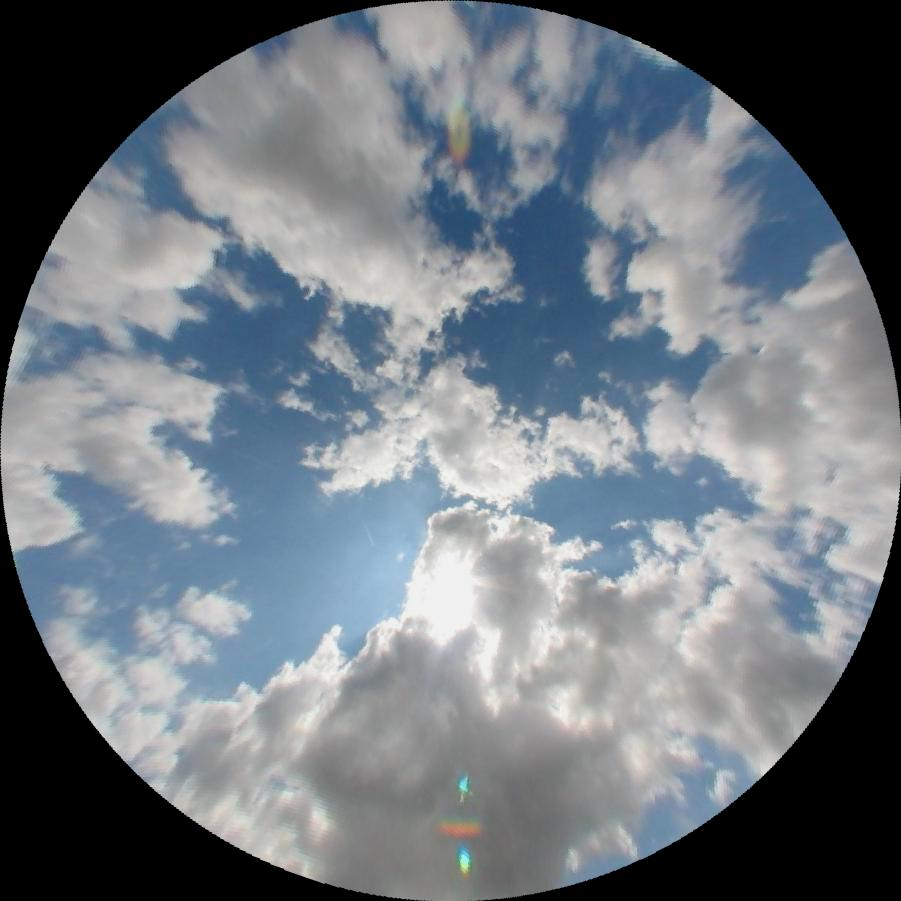contrail young: (360, 518, 375, 547)
